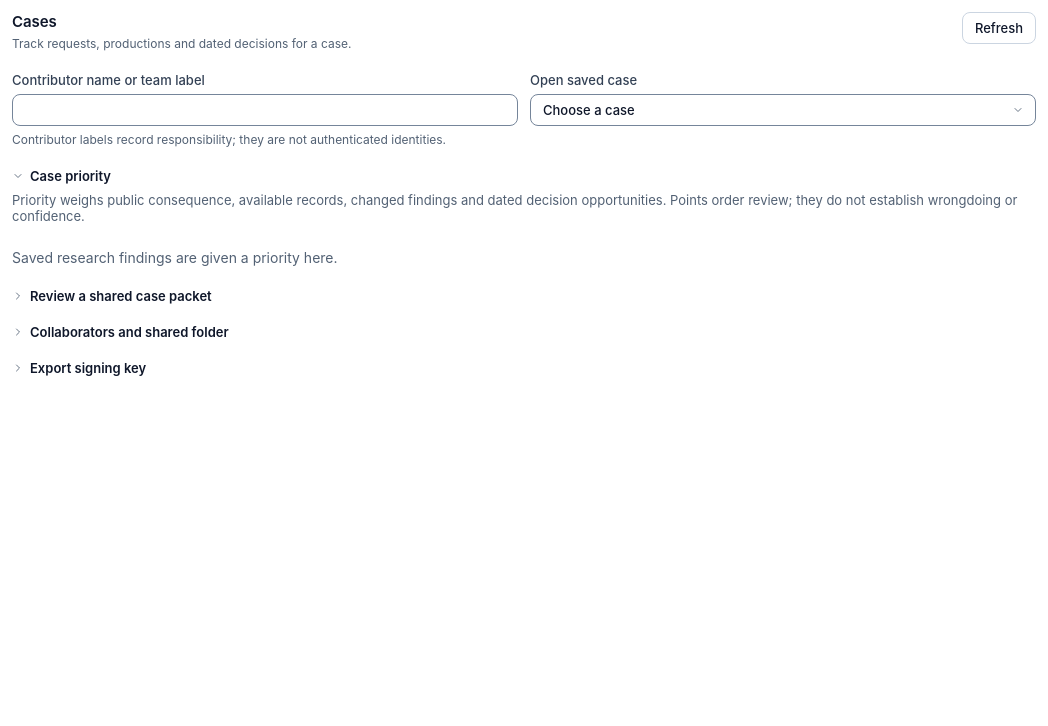
Test: persistent casework › discards a saved case response after switching to another investigation
This screenshot has width=1048, height=726.
Step 1. Select "Shelter contract · revision 1" in the dropdown labelled "Open saved case" → (783, 110), box [530, 94, 1036, 126]
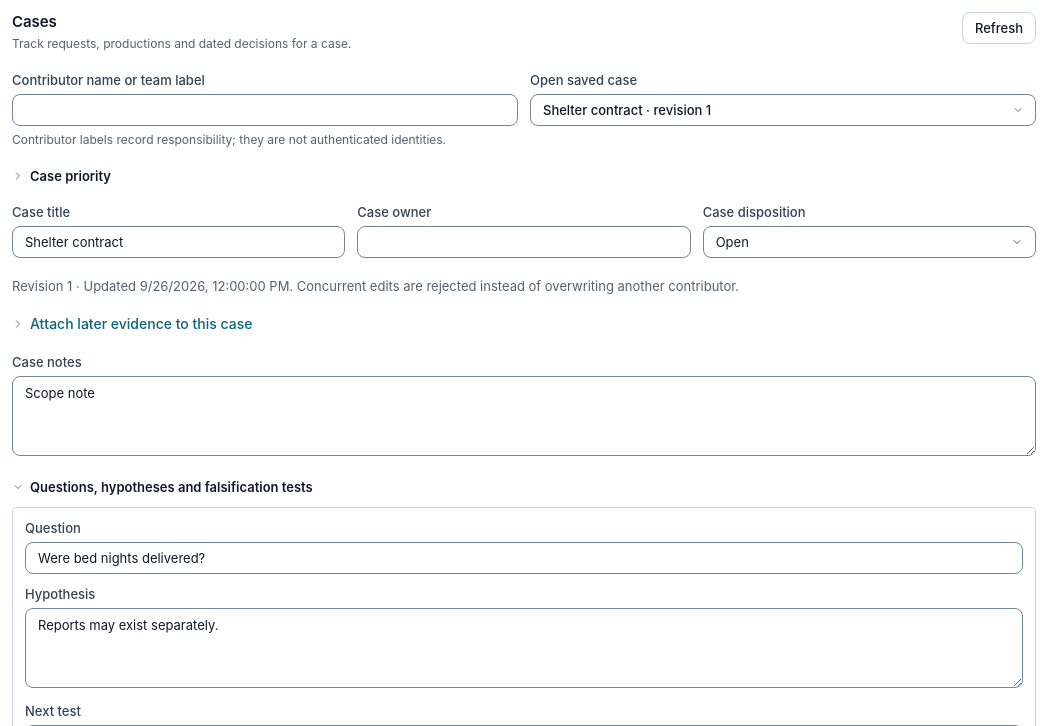
Step 2. Type "Reporter" into the field labelled "Contributor name or team label" → (265, 110), box [12, 94, 518, 126]
(page scrolled)
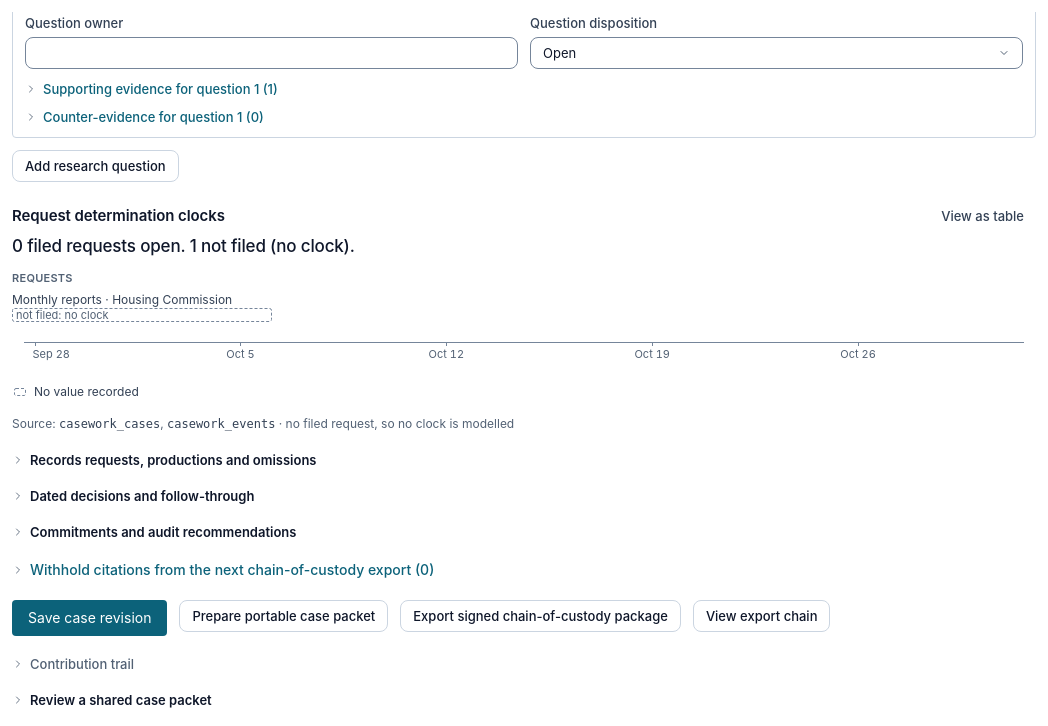
Step 3. Click the button "Save case revision" → (90, 618), box [12, 600, 168, 636]
(page scrolled)
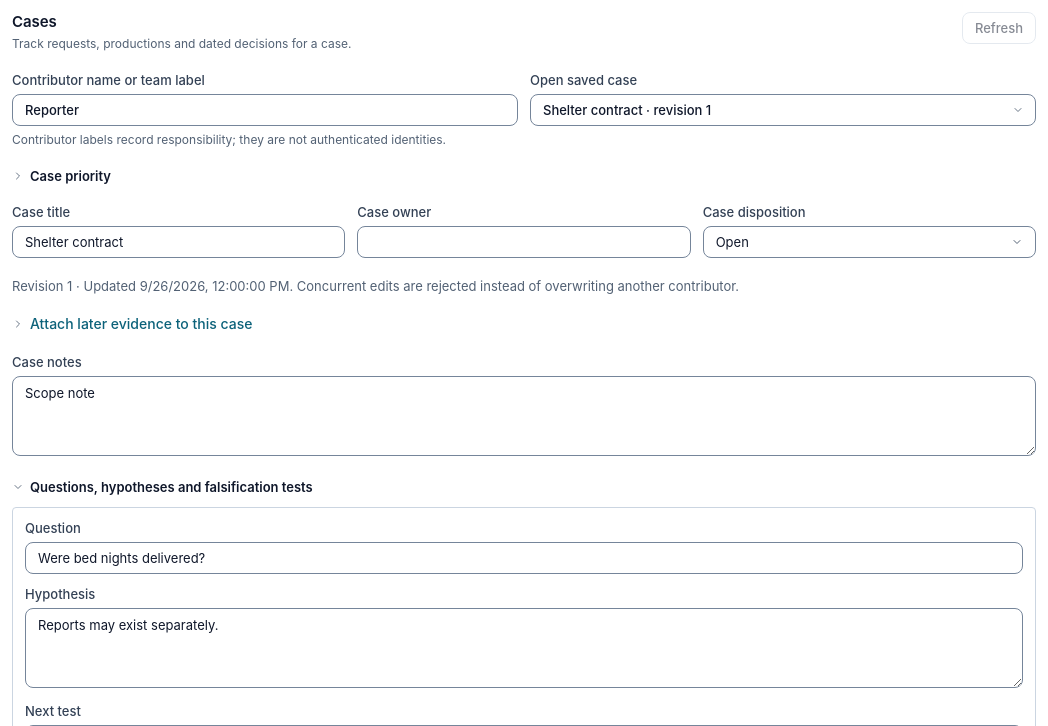
Step 4. Select "Public bathrooms · revision 1" in the dropdown labelled "Open saved case" → (783, 110), box [530, 94, 1036, 126]
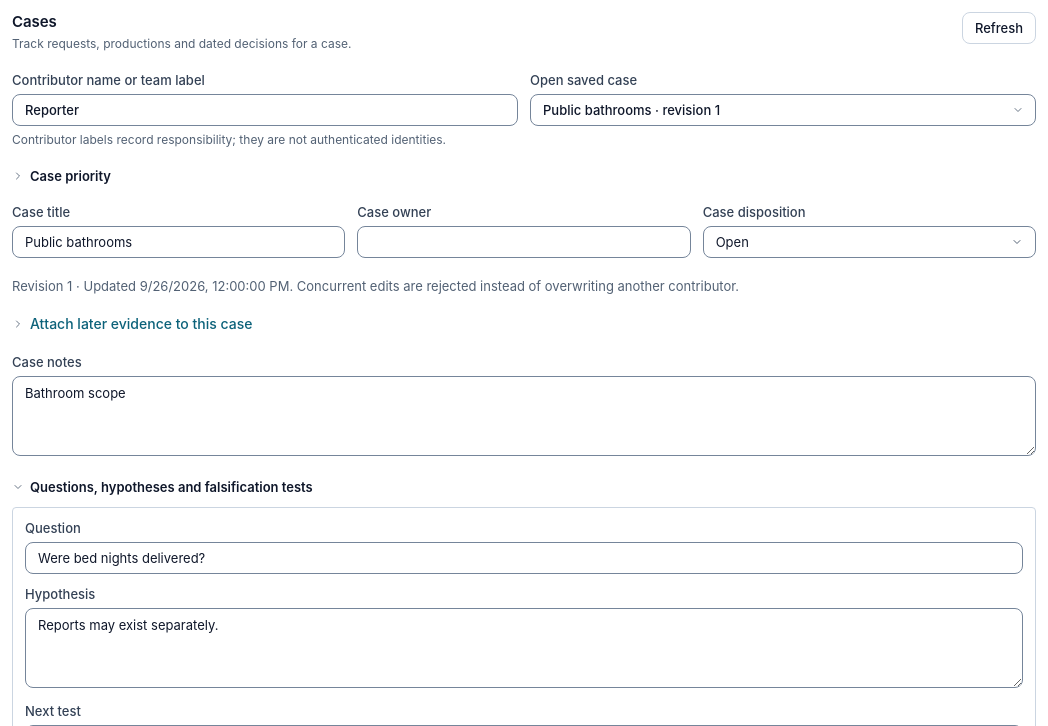
Check: the field labelled "Case title" holds "Public bathrooms", box [12, 226, 345, 258]
Check: the text box labelled "Case notes" holds "Bathroom scope", box [12, 376, 1036, 456]
